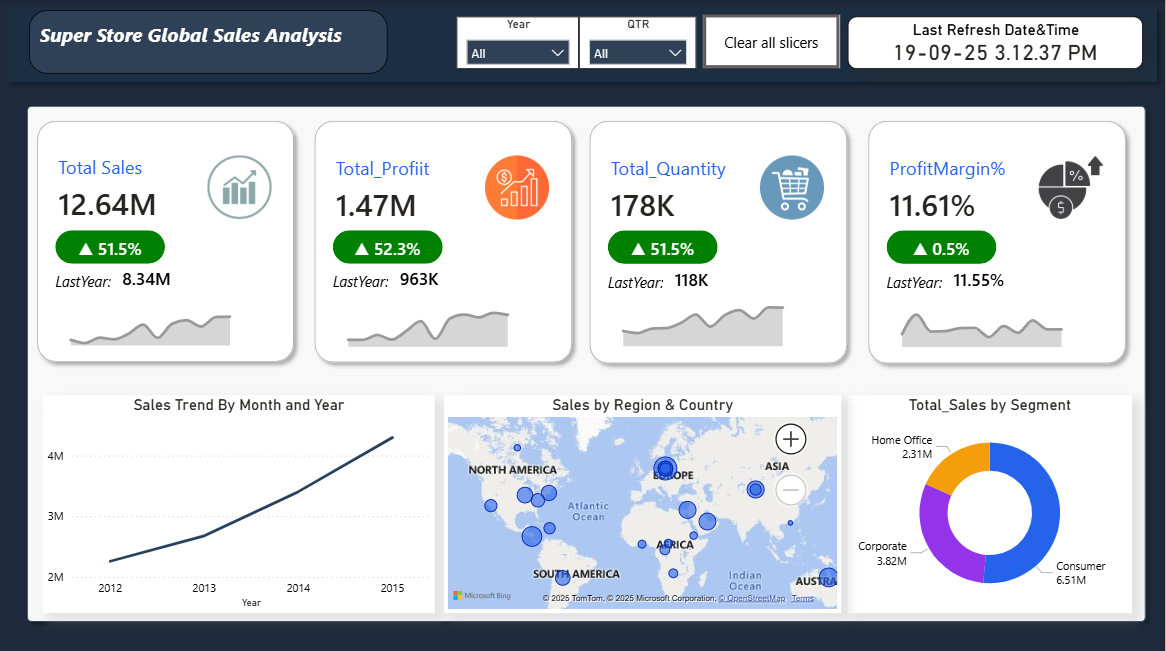

The dashboard page shown, as its layout file describes it:
{"tool":"powerbi","page":{"name":"Executive Dashboard","canvas":[1280,720],"ordinal":0},"visuals":[{"type":"shape","box":[21.4,108.3,1245.8,584.4],"z":0},{"type":"shape","box":[32.8,125.4,299.9,282.4],"z":0,"group":"g9"},{"type":"shape","box":[337.8,125.4,300.5,283],"z":0,"group":"g10"},{"type":"shape","box":[640,125.4,300.5,284.2],"z":0,"group":"g11"},{"type":"shape","box":[945,125.4,300.5,284.2],"z":0,"group":"g12"},{"type":"shape","title":"YOY BG","box":[61.6,253.9,120.5,36.7],"z":0,"group":"g1"},{"type":"shape","title":"YOY BG","box":[366.6,254.2,120.8,36.8],"z":0,"group":"g2"},{"type":"shape","title":"YOY BG","box":[668.8,254.7,120.8,36.9],"z":0,"group":"g3"},{"type":"shape","title":"YOY BG","box":[973.8,254.7,120.8,36.9],"z":0,"group":"g4"},{"type":"cardVisual","title":"YOY","fields":{"Data":["Measures (2).PreviousYear_Sales"]},"box":[126.6,290.1,95.1,28],"z":0,"group":"g5"},{"type":"cardVisual","title":"YOY","fields":{"Data":["Measures (2).LY Profit"]},"box":[431.8,290.4,95.3,28.1],"z":0,"group":"g6"},{"type":"cardVisual","title":"YOY","fields":{"Data":["Measures (2).LY Quantity"]},"box":[734,291.1,95.3,28.2],"z":0,"group":"g7"},{"type":"cardVisual","title":"YOY","fields":{"Data":["Measures (2).LY Margin%"]},"box":[1039,291.1,95.3,28.2],"z":0,"group":"g8"},{"type":"shape","box":[0,0,1280.3,100.2],"z":1000},{"type":"cardVisual","fields":{"Data":["Measures (2).Total_Sales"]},"box":[47.9,150.8,268.4,115.8],"z":1000,"group":"g9"},{"type":"cardVisual","fields":{"Data":["Measures (2).Total_Profiit"]},"box":[352.9,150.9,269,116],"z":1000,"group":"g10"},{"type":"cardVisual","fields":{"Data":["Measures (2).Total_Quantity"]},"box":[655.1,151,269,116.5],"z":1000,"group":"g11"},{"type":"cardVisual","fields":{"Data":["Measures (2).Profit Margin%"]},"box":[960.1,151,269,116.5],"z":1000,"group":"g12"},{"type":"cardVisual","title":"YOY","fields":{"Data":["Measures (2).YOY Growth %"]},"box":[69.8,256.7,104.1,29.7],"z":1000,"group":"g1"},{"type":"cardVisual","title":"YOY","fields":{"Data":["Measures (2).Symbol_YOY Profit Growth"]},"box":[374.8,257,104.3,29.7],"z":1000,"group":"g2"},{"type":"cardVisual","title":"YOY","fields":{"Data":["Measures (2).Symbol_YOY Quantity%"]},"box":[677,257.5,104.3,29.8],"z":1000,"group":"g3"},{"type":"cardVisual","title":"YOY","fields":{"Data":["Measures (2).Symbol_YOY Profit Margin%"]},"box":[982,257.5,104.3,29.8],"z":1000,"group":"g4"},{"type":"shape","box":[62,290.1,81.5,38.5],"z":1000,"group":"g5"},{"type":"shape","box":[367.1,290.4,81.7,38.6],"z":1000,"group":"g6"},{"type":"shape","box":[669.3,291.1,81.7,38.8],"z":1000,"group":"g7"},{"type":"shape","box":[974.3,291.1,81.7,38.8],"z":1000,"group":"g8"},{"type":"group","id":"g1","title":"YOY%","box":[61.6,253.9,120.5,36.7],"z":2000,"group":"g9"},{"type":"group","id":"g2","title":"YOY%","box":[366.6,254.2,120.8,36.8],"z":2000,"group":"g10"},{"type":"group","id":"g3","title":"YOY%","box":[668.8,254.7,120.8,36.9],"z":2000,"group":"g11"},{"type":"group","id":"g4","title":"YOY%","box":[973.8,254.7,120.8,36.9],"z":2000,"group":"g12"},{"type":"lineChart","title":"Sales Trend By Month and Year","fields":{"Category":["Dim_Date.Year","Dim_Date.MonthName"],"Y":["Measures (2).Total_Sales"]},"box":[48.5,434.7,430.5,239.5],"z":2000},{"type":"group","id":"g5","title":"LY","box":[62,290.1,159.7,38.5],"z":3000,"group":"g9"},{"type":"group","id":"g6","title":"LY","box":[367.1,290.4,160,38.6],"z":3000,"group":"g10"},{"type":"group","id":"g7","title":"LY","box":[669.3,291.1,160,38.8],"z":3000,"group":"g11"},{"type":"group","id":"g8","title":"LY","box":[974.3,291.1,160,38.8],"z":3000,"group":"g12"},{"type":"donutChart","fields":{"Category":["DimCustomer.Segment"],"Y":["Measures (2).Total_Sales"]},"box":[932.2,434.7,312.2,239.5],"z":3000},{"type":"lineChart","fields":{"Y":["Measures (2).Total_Sales"],"Category":["Dim_Date.Month"]},"box":[48.4,323.3,268.4,63.1],"z":4000,"group":"g9"},{"type":"lineChart","fields":{"Category":["Dim_Date.Month"],"Y":["Measures (2).Total_Profiit"]},"box":[353.5,323.8,268.9,63.2],"z":4000,"group":"g10"},{"type":"lineChart","fields":{"Category":["Dim_Date.Month"],"Y":["Measures (2).LY Quantity"]},"box":[655.7,324.6,268.9,63.5],"z":4000,"group":"g11"},{"type":"lineChart","fields":{"Category":["Dim_Date.Month"],"Y":["Measures (2).LY Margin%"]},"box":[960.7,324.6,268.9,63.5],"z":4000,"group":"g12"},{"type":"map","title":"Sales by Region & Country","fields":{"Size":["Measures (2).Total_Sales"],"Category":["DimGeography.Region","DimGeography.Country"]},"box":[488.9,434.7,436.2,239.5],"z":4000},{"type":"group","id":"g9","title":"SalesKPI","box":[32.8,125.4,299.3,282.2],"z":5000},{"type":"group","id":"g10","title":"ProfitKPI","box":[337.8,125.4,299.3,282.2],"z":6000},{"type":"group","id":"g11","title":"Total Quantity","box":[640,125.4,299.3,282.2],"z":7000},{"type":"group","id":"g12","title":"Total Profit Margin","box":[945,125.4,299.3,282.2],"z":8000},{"type":"textbox","box":[32.9,12.3,393.8,70],"z":9000},{"type":"slicer","title":"Year","fields":{"Values":["Dim_Date.Year"]},"box":[502.2,19.2,134.5,57.6],"z":10000},{"type":"slicer","title":"QTR","fields":{"Values":["Dim_Date.QTR"]},"box":[636.7,19.2,129,57.6],"z":11000},{"type":"actionButton","box":[772.6,16.5,150.9,60.4],"z":12000},{"type":"card","title":"Last Refresh Date&Time","fields":{"Values":["Measures (2).Last Refresh Time"]},"box":[931.7,19.2,323.8,57.6],"z":12001}]}

Visuals, with their boxes in screenshot pixels (x1, y1, x2, y2), scaled from the page's 1280x720 canvas onto the 1166x651 screenshot:
shape: {"left": 19, "top": 98, "right": 1154, "bottom": 626}
shape: {"left": 30, "top": 113, "right": 303, "bottom": 369}
shape: {"left": 308, "top": 113, "right": 581, "bottom": 369}
shape: {"left": 583, "top": 113, "right": 857, "bottom": 370}
shape: {"left": 861, "top": 113, "right": 1135, "bottom": 370}
"YOY BG" shape: {"left": 56, "top": 230, "right": 166, "bottom": 263}
"YOY BG" shape: {"left": 334, "top": 230, "right": 444, "bottom": 263}
"YOY BG" shape: {"left": 609, "top": 230, "right": 719, "bottom": 264}
"YOY BG" shape: {"left": 887, "top": 230, "right": 997, "bottom": 264}
"YOY" cardVisual: {"left": 115, "top": 262, "right": 202, "bottom": 288}
"YOY" cardVisual: {"left": 393, "top": 263, "right": 480, "bottom": 288}
"YOY" cardVisual: {"left": 669, "top": 263, "right": 755, "bottom": 289}
"YOY" cardVisual: {"left": 946, "top": 263, "right": 1033, "bottom": 289}
shape: {"left": 0, "top": 0, "right": 1165, "bottom": 91}
cardVisual - Measures (2).Total_Sales: {"left": 44, "top": 136, "right": 288, "bottom": 241}
cardVisual - Measures (2).Total_Profiit: {"left": 321, "top": 136, "right": 567, "bottom": 241}
cardVisual - Measures (2).Total_Quantity: {"left": 597, "top": 137, "right": 842, "bottom": 242}
cardVisual - Measures (2).Profit Margin%: {"left": 875, "top": 137, "right": 1120, "bottom": 242}
"YOY" cardVisual: {"left": 64, "top": 232, "right": 158, "bottom": 259}
"YOY" cardVisual: {"left": 341, "top": 232, "right": 436, "bottom": 259}
"YOY" cardVisual: {"left": 617, "top": 233, "right": 712, "bottom": 260}
"YOY" cardVisual: {"left": 895, "top": 233, "right": 990, "bottom": 260}
shape: {"left": 56, "top": 262, "right": 131, "bottom": 297}
shape: {"left": 334, "top": 263, "right": 409, "bottom": 297}
shape: {"left": 610, "top": 263, "right": 684, "bottom": 298}
shape: {"left": 888, "top": 263, "right": 962, "bottom": 298}
"YOY%" group: {"left": 56, "top": 230, "right": 166, "bottom": 263}
"YOY%" group: {"left": 334, "top": 230, "right": 444, "bottom": 263}
"YOY%" group: {"left": 609, "top": 230, "right": 719, "bottom": 264}
"YOY%" group: {"left": 887, "top": 230, "right": 997, "bottom": 264}
"Sales Trend By Month and Year" lineChart: {"left": 44, "top": 393, "right": 436, "bottom": 610}
"LY" group: {"left": 56, "top": 262, "right": 202, "bottom": 297}
"LY" group: {"left": 334, "top": 263, "right": 480, "bottom": 297}
"LY" group: {"left": 610, "top": 263, "right": 755, "bottom": 298}
"LY" group: {"left": 888, "top": 263, "right": 1033, "bottom": 298}
donutChart - DimCustomer.Segment x Measures (2).Total_Sales: {"left": 849, "top": 393, "right": 1134, "bottom": 610}
lineChart - Measures (2).Total_Sales x Dim_Date.Month: {"left": 44, "top": 292, "right": 289, "bottom": 349}
lineChart - Dim_Date.Month x Measures (2).Total_Profiit: {"left": 322, "top": 293, "right": 567, "bottom": 350}
lineChart - Dim_Date.Month x Measures (2).LY Quantity: {"left": 597, "top": 293, "right": 842, "bottom": 351}
lineChart - Dim_Date.Month x Measures (2).LY Margin%: {"left": 875, "top": 293, "right": 1120, "bottom": 351}
"Sales by Region & Country" map: {"left": 445, "top": 393, "right": 843, "bottom": 610}
"SalesKPI" group: {"left": 30, "top": 113, "right": 303, "bottom": 369}
"ProfitKPI" group: {"left": 308, "top": 113, "right": 580, "bottom": 369}
"Total Quantity" group: {"left": 583, "top": 113, "right": 856, "bottom": 369}
"Total Profit Margin" group: {"left": 861, "top": 113, "right": 1133, "bottom": 369}
textbox: {"left": 30, "top": 11, "right": 389, "bottom": 74}
"Year" slicer: {"left": 457, "top": 17, "right": 580, "bottom": 69}
"QTR" slicer: {"left": 580, "top": 17, "right": 698, "bottom": 69}
actionButton: {"left": 704, "top": 15, "right": 841, "bottom": 70}
"Last Refresh Date&Time" card: {"left": 849, "top": 17, "right": 1144, "bottom": 69}
